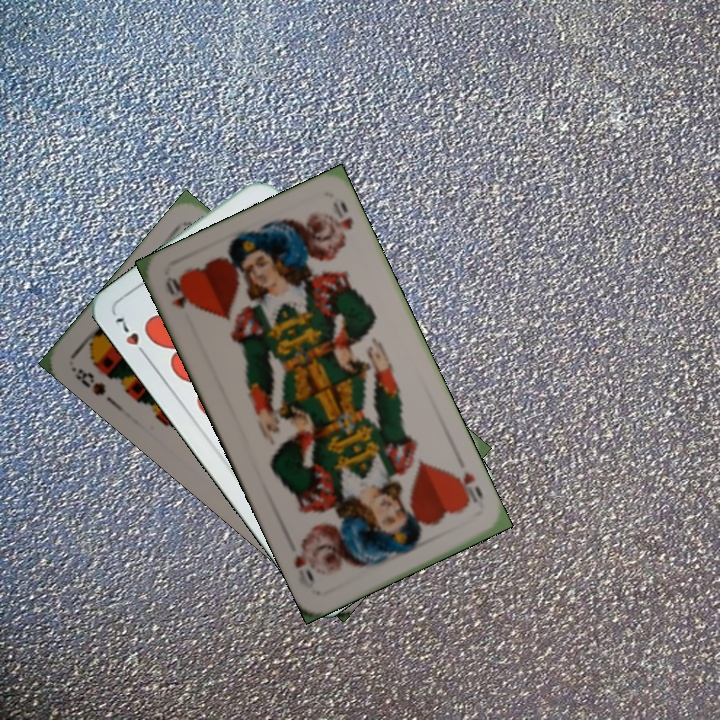H7: (111, 313, 151, 362)
HO: (448, 467, 486, 508), (161, 272, 190, 311)
S8: (67, 363, 109, 398)
